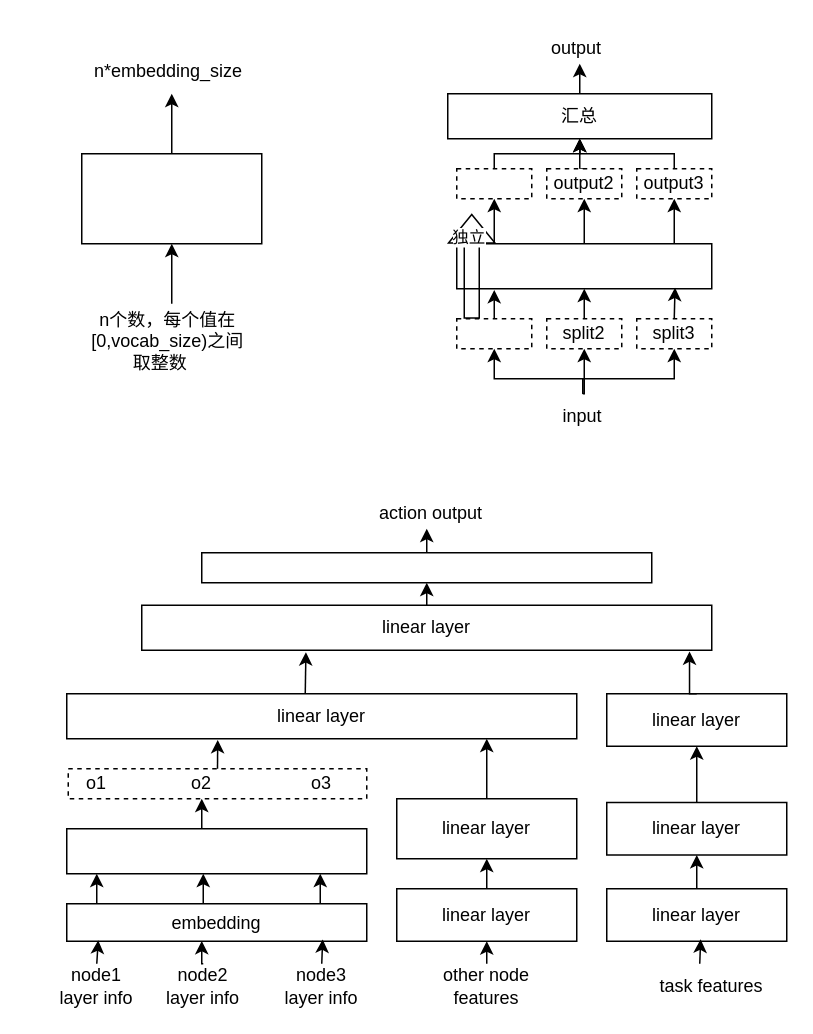
This 813x1034 diagram has some shape labels left out. The centre of each missing label's shape, as x and y in pixels:
embedding vocab_size * embedding_size: the point at 171,198
FM layer: the point at 216,850
output1: the point at 493,183
shared model: the point at 583,265
softmax: the point at 426,567
split1: the point at 493,333
